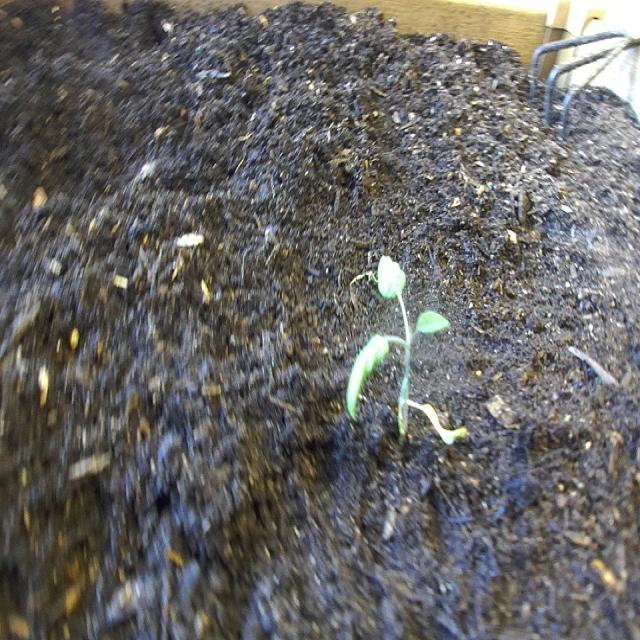Healthy: (331, 211, 474, 501)
